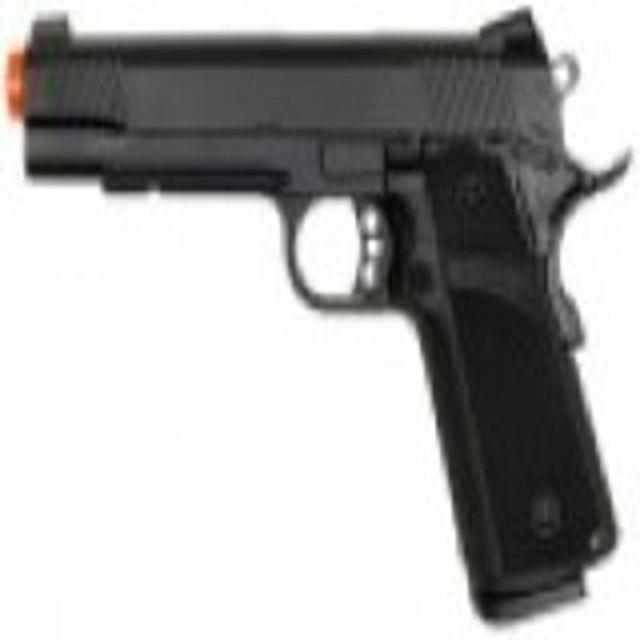pistol: (11, 10, 627, 617)
